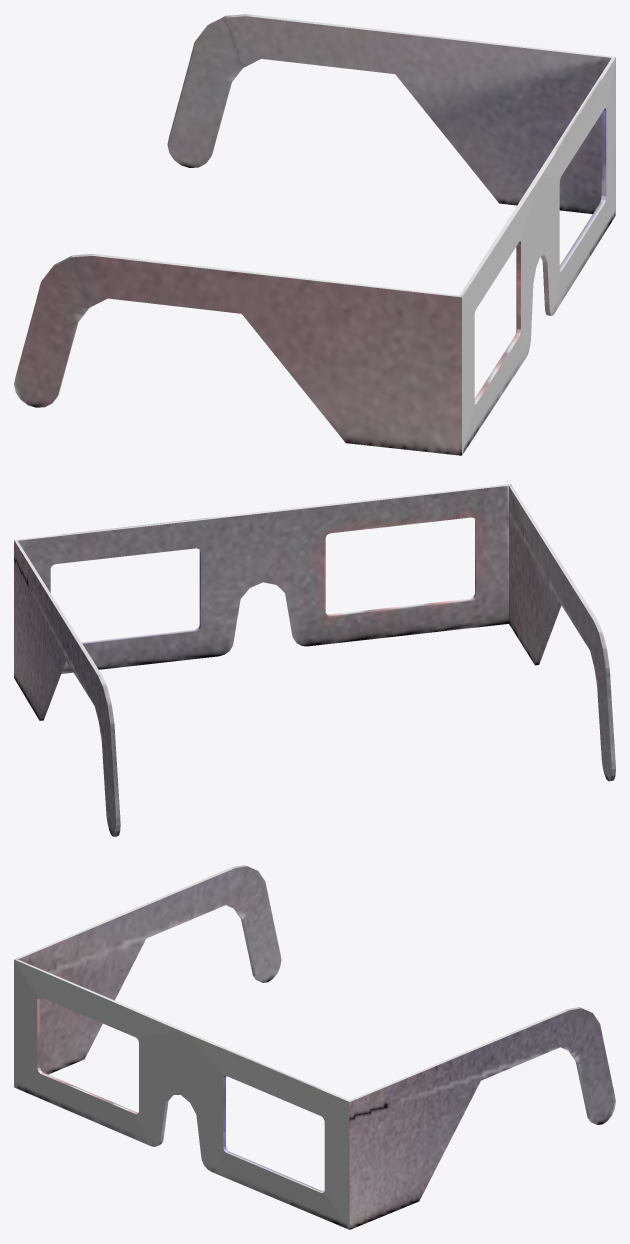
File: threed_glasses_frame.glb
3 views of the same model, one above another, from view 1: azimuth 30°, elevation 25°; view 2: azimuth 150°, elevation 25°; view 3: azimuth 270°, elevation 25° (orthographic). The views are drawn at different scales.
Parts seen in each view (by area): view 1: threed_glasses_frame; view 2: threed_glasses_frame; view 3: threed_glasses_frame.
Boxes of the visible parts, x1,y1,x2,y2 form: threed_glasses_frame: [14, 14, 615, 455]; threed_glasses_frame: [14, 484, 615, 836]; threed_glasses_frame: [14, 865, 615, 1229].
Size of the model in its own units: 2.07 by 0.486 by 2.07.
Materials: 1 (1 with a texture image).
